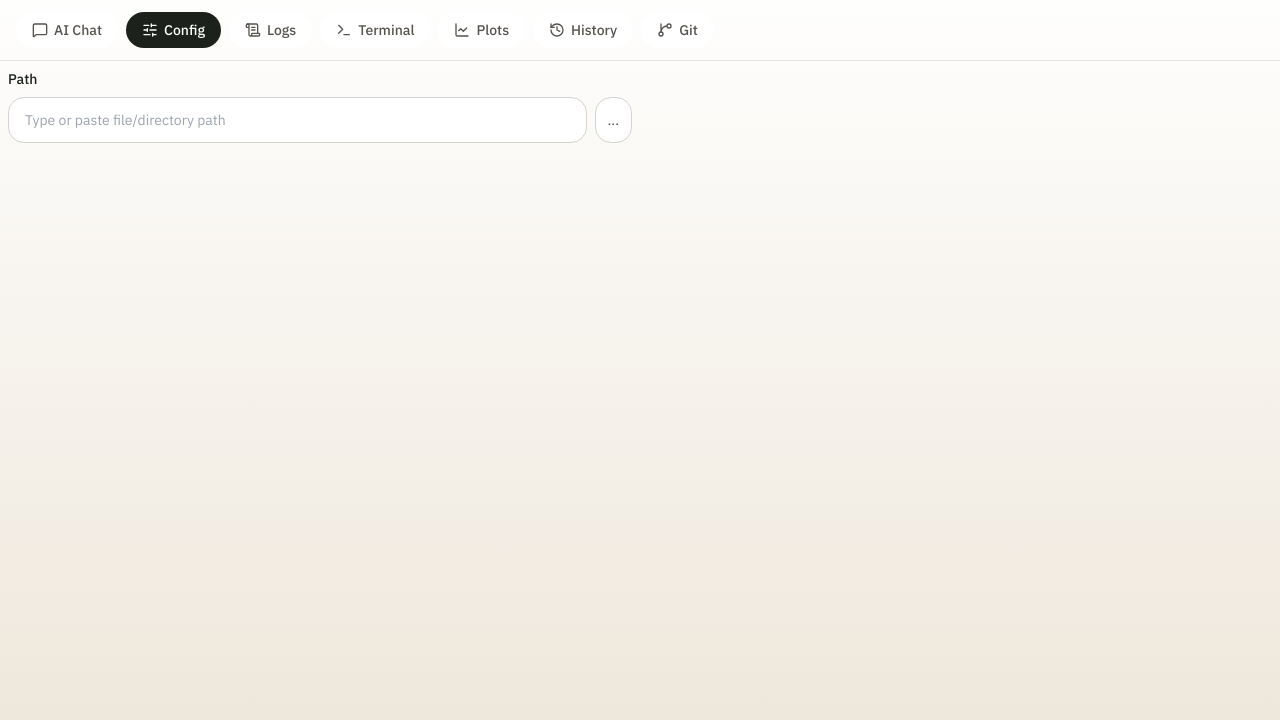
Test: BottomPanel › config Browse button falls back to in-app modal on native dialog failure (file_browser)
Click the button titled "Browse filesystem": x=613, y=120 [595,97,632,143]
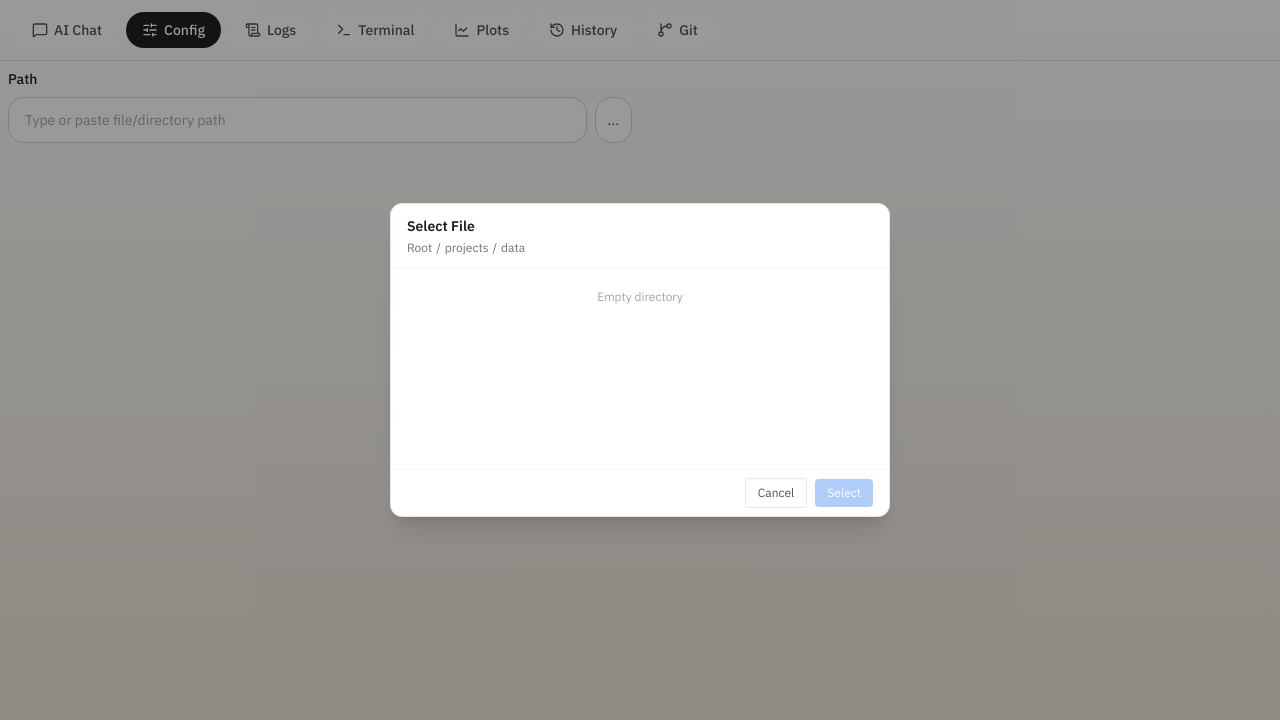
Check: the text "Select File" is shown, box [407,217,475,235]
